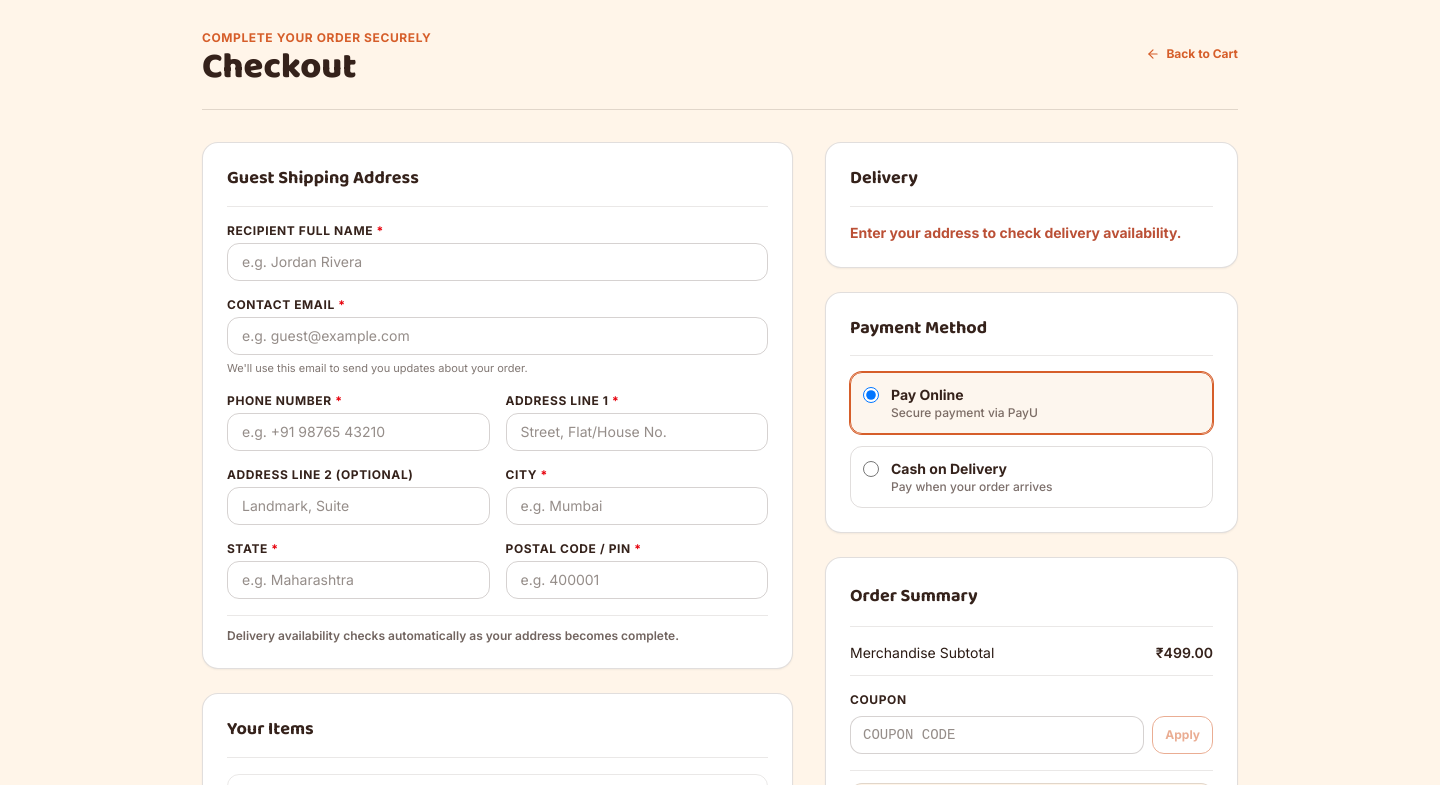
Test: Stage 2 consolidated checkout › creates one PayU Order with paymentMethod and starts hosted payment automatically
Expected: the heading "Guest Shipping Address" is shown, 227,167 -> 419,190
Type "Guest User" into the field labelled "Recipient Full Name *" at [498, 262], box 227,243 -> 768,281
Type "+91 98765 00000" into the field labelled "Phone Number *" at [358, 432], box 227,413 -> 490,451
Type "123 Street" into the field labelled "Address Line 1 *" at [637, 432], box 506,413 -> 768,451
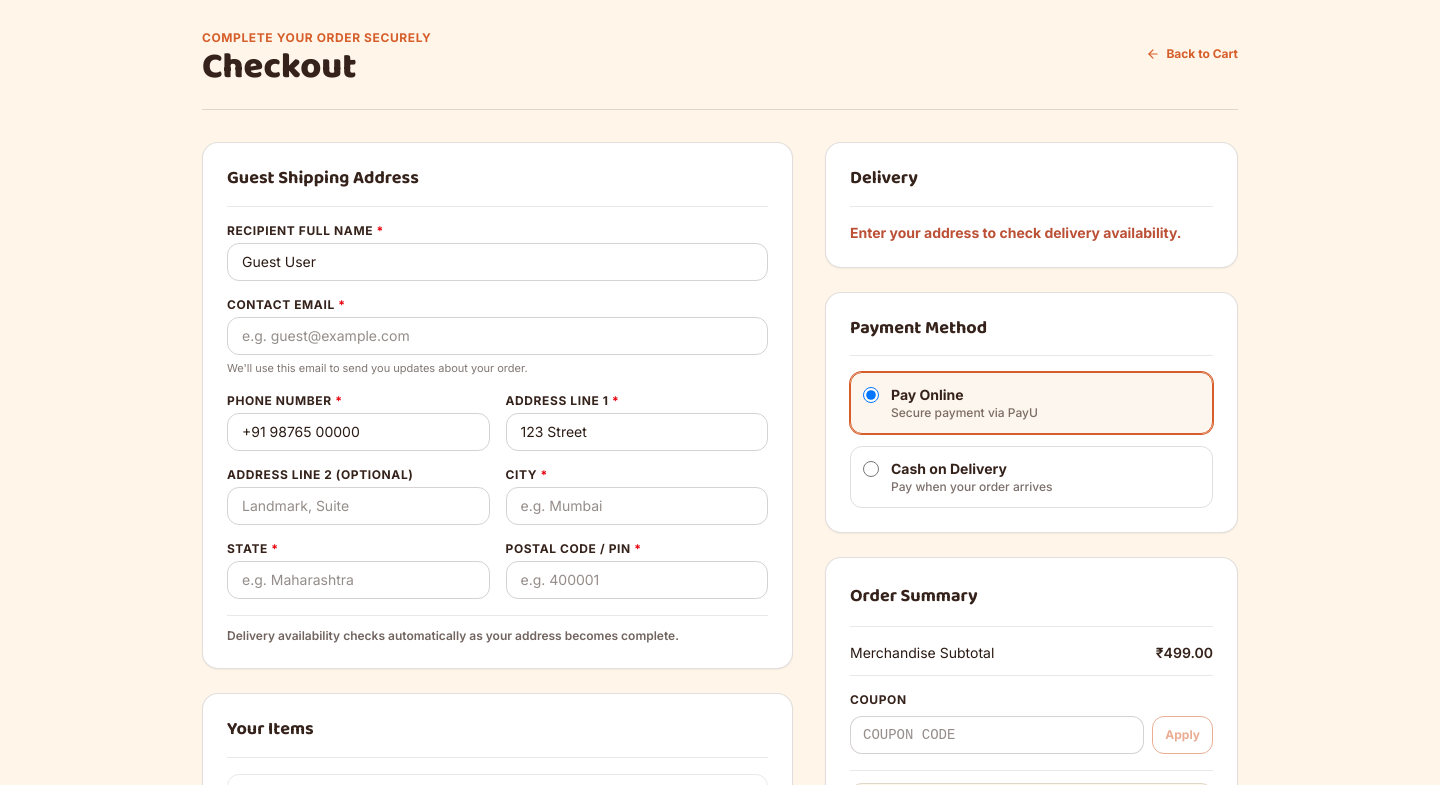
Type "Mumbai" into the field labelled "City *" at [637, 506], box 506,487 -> 768,525
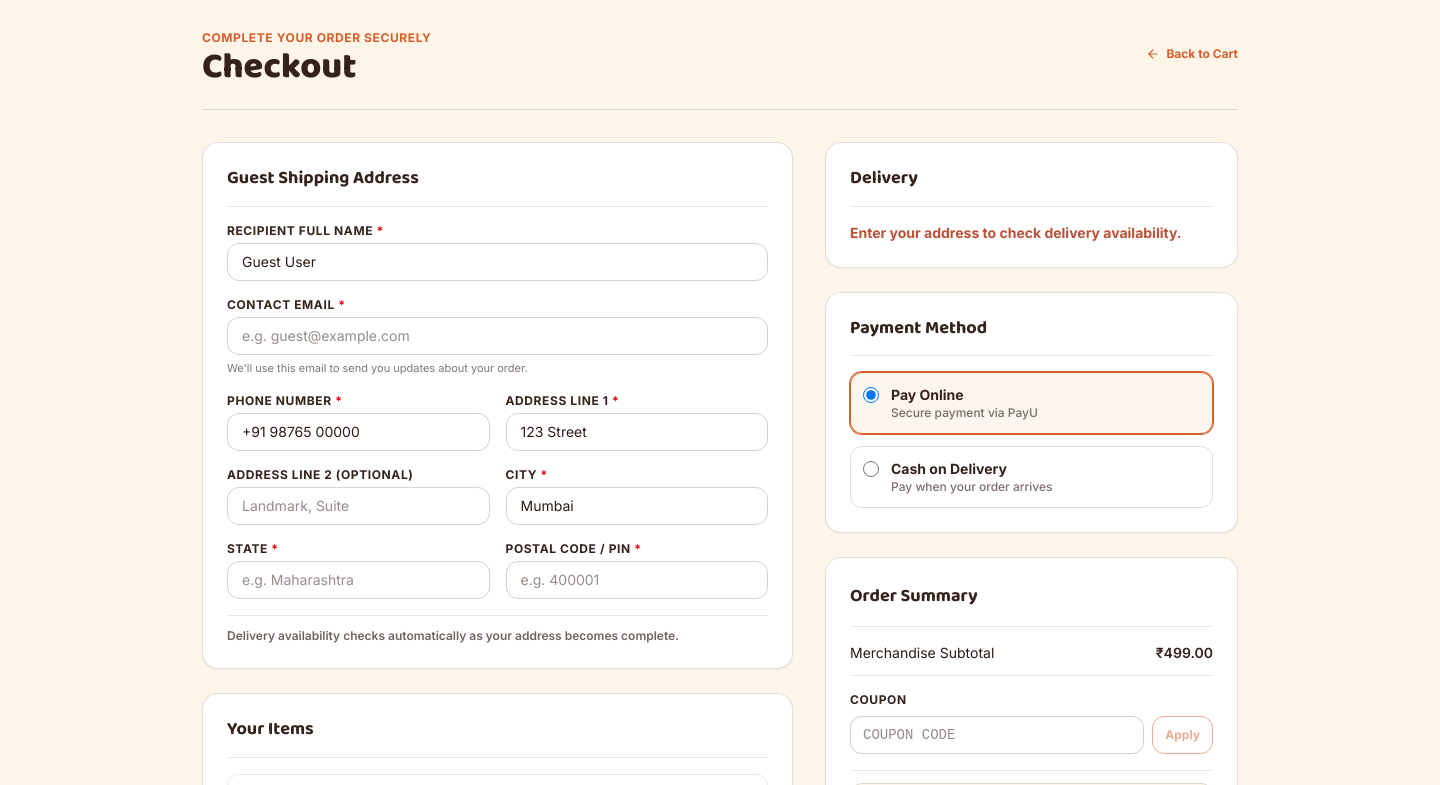
Type "Maharashtra" into the field labelled "State *" at [358, 580], box 227,561 -> 490,599
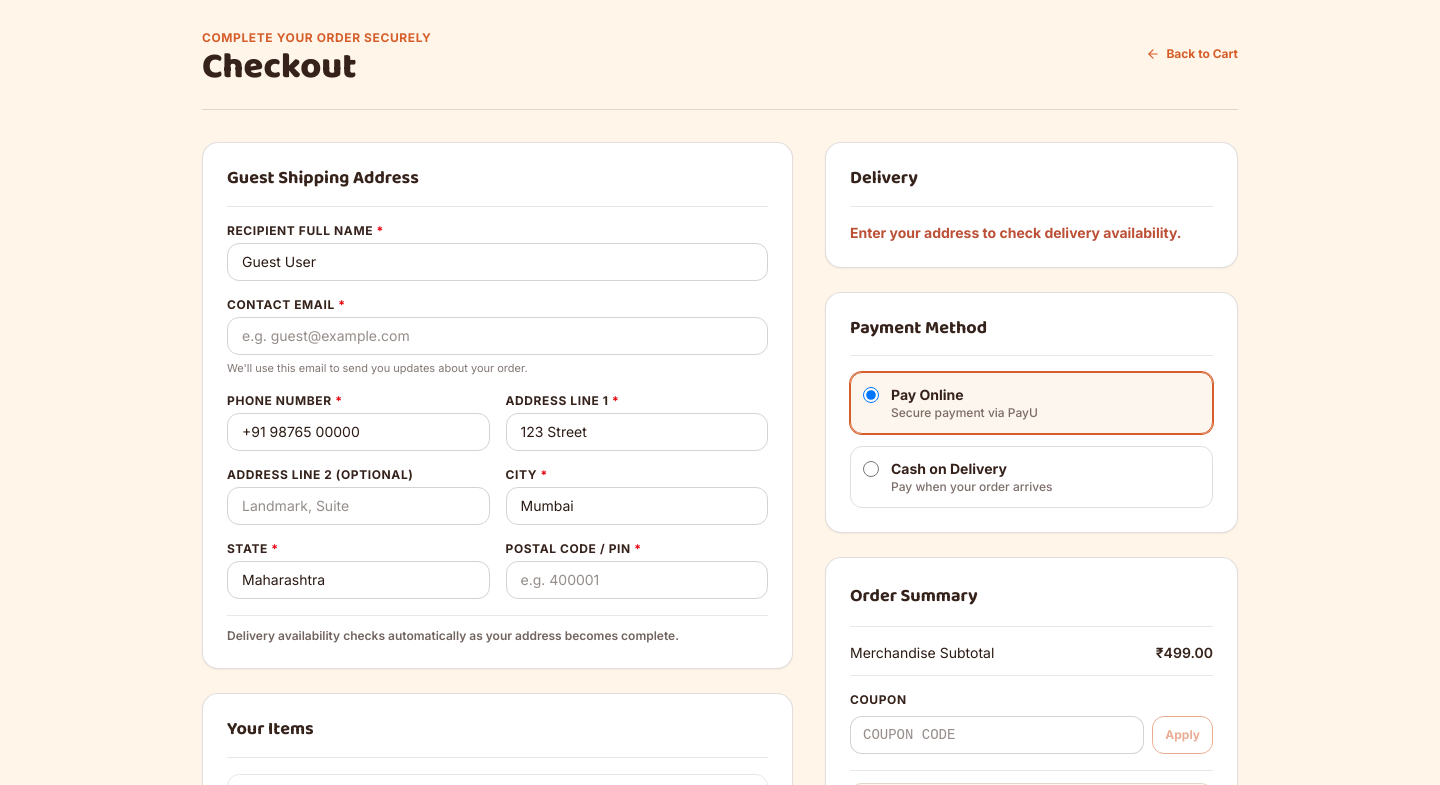
Type "400001" into the field labelled "Postal Code / PIN *" at [637, 580], box 506,561 -> 768,599
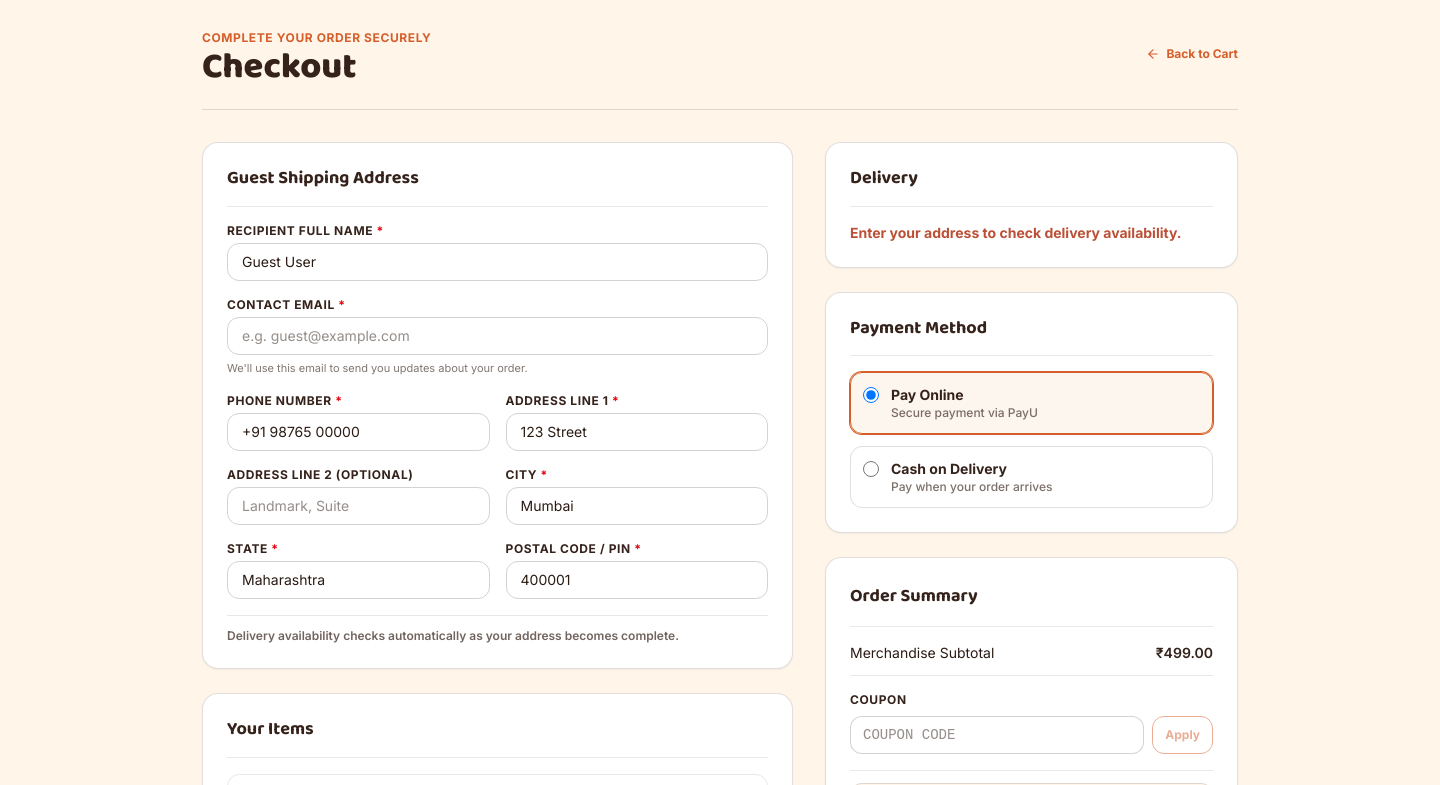
Type "guest@example.com" into the field labelled "Contact Email *" at [498, 336], box 227,317 -> 768,355
(page scrolled)
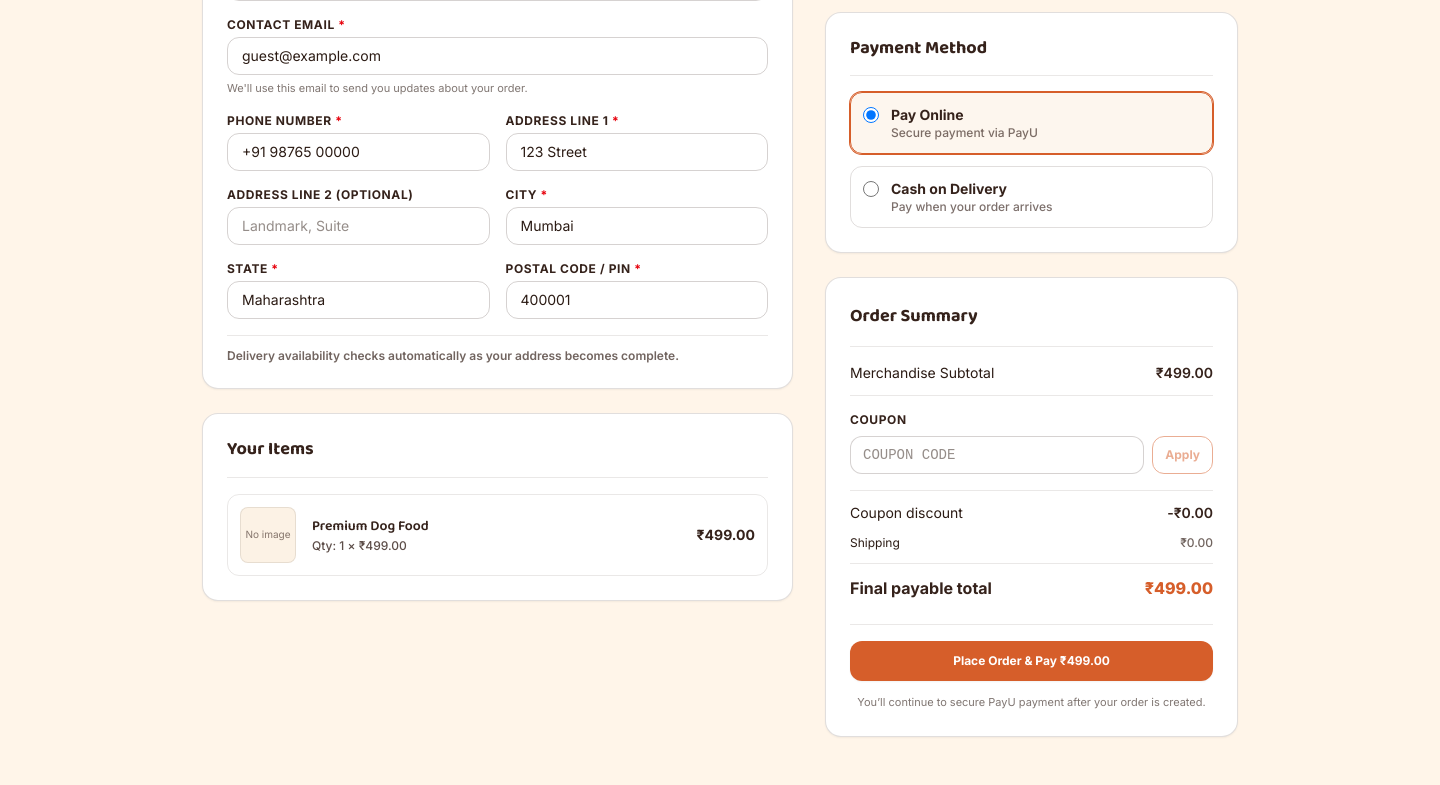
Click the button "Place Order & Pay ₹499.00" at [1032, 661], box 850,641 -> 1213,681
(page scrolled)
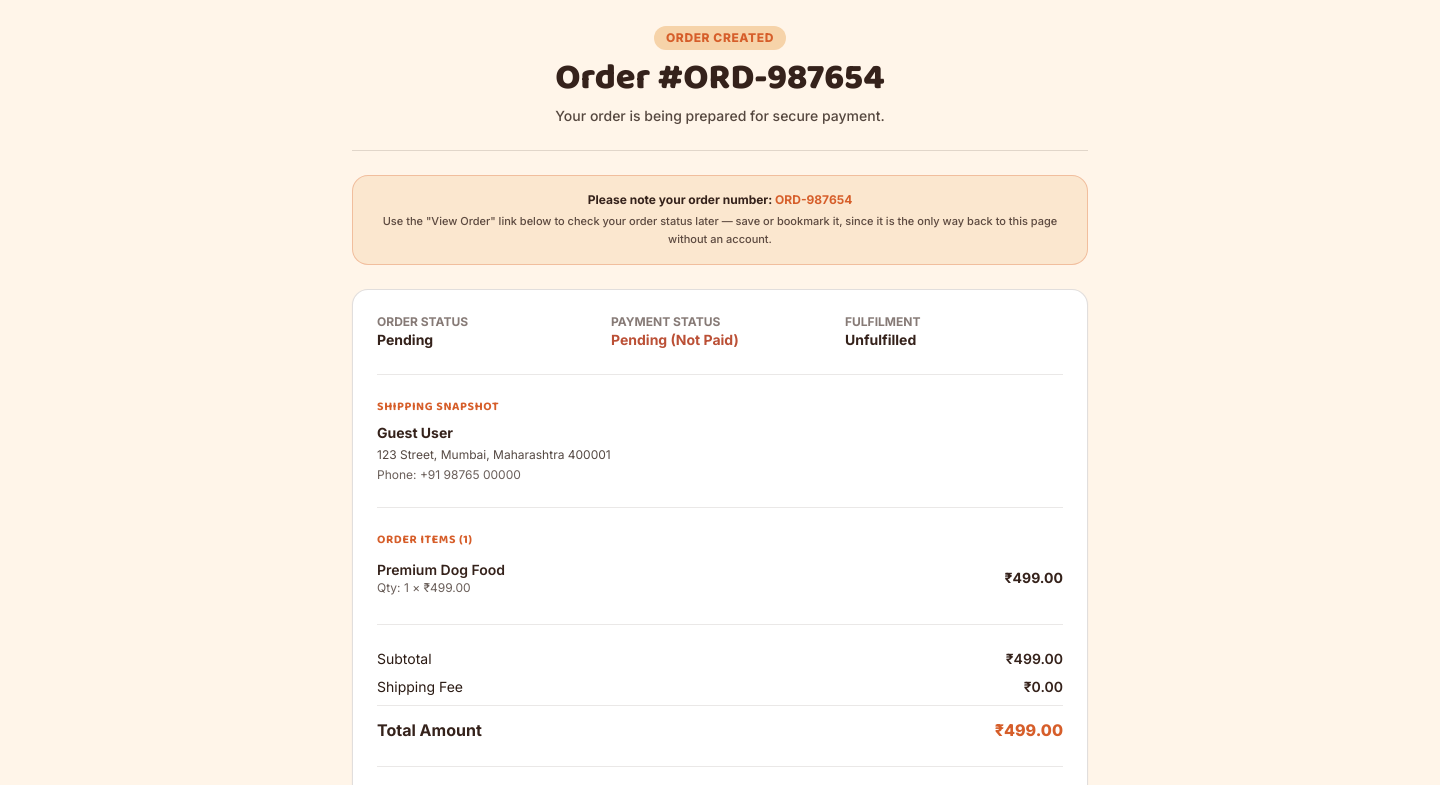
Result: the heading "Order #ORD-987654" is shown at 555,49 -> 885,107
